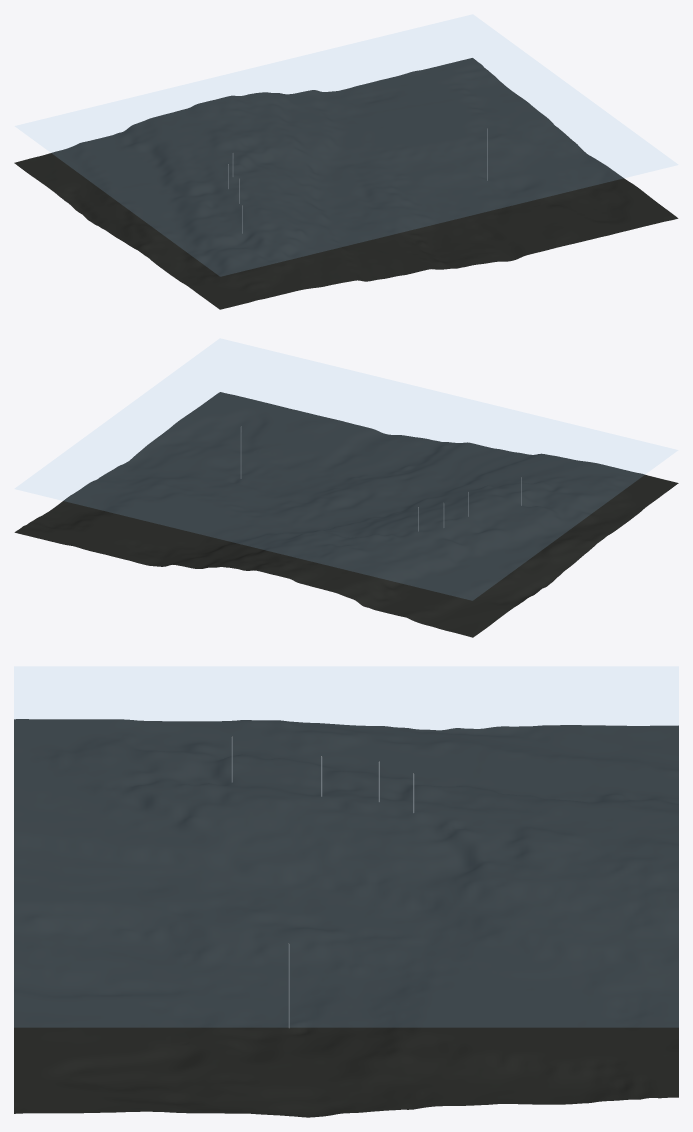
Rendered from seafloor_v3.glb.
The picture shows the model from 3 angles, top to bottom: view 1: azimuth 30°, elevation 25°; view 2: azimuth 150°, elevation 25°; view 3: azimuth 270°, elevation 25°; orthographic projection. The views are drawn at different scales.
Parts seen in each view (by area): view 1: basement_top, seafloor_plane; view 2: seafloor_plane, basement_top; view 3: basement_top, seafloor_plane.
Part boxes in pixels (x1=…): basement_top: x1=14, y1=58, x2=678, y2=309; seafloor_plane: x1=15, y1=15, x2=677, y2=275; seafloor_plane: x1=15, y1=339, x2=677, y2=599; basement_top: x1=14, y1=392, x2=678, y2=637; basement_top: x1=14, y1=719, x2=678, y2=1117; seafloor_plane: x1=14, y1=667, x2=678, y2=1026.
Bounding box in the file's own units: 4503 × 639 × 3500.
33 materials, 20 textured.
